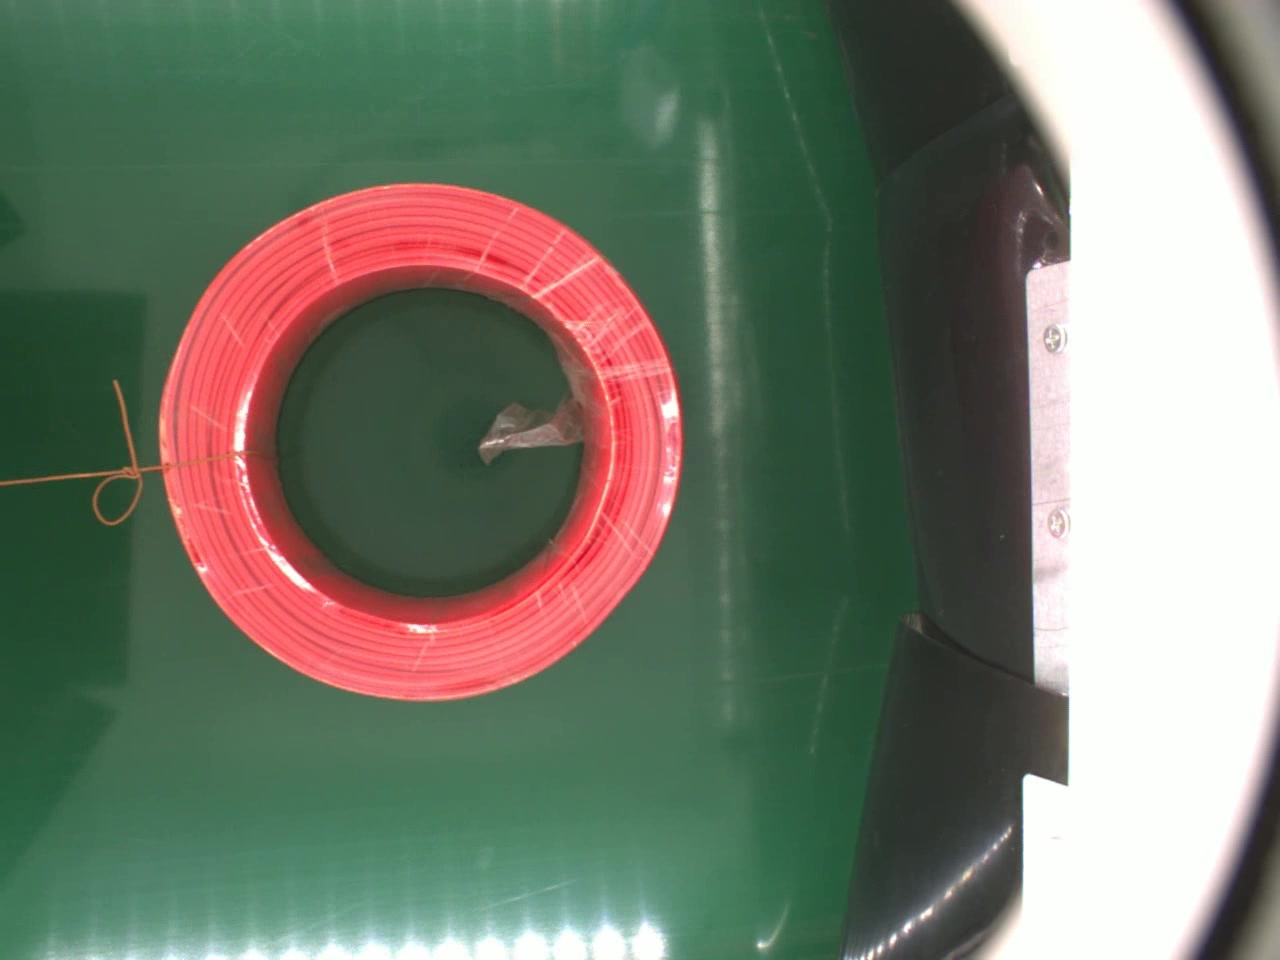red: (155, 177, 699, 707)
